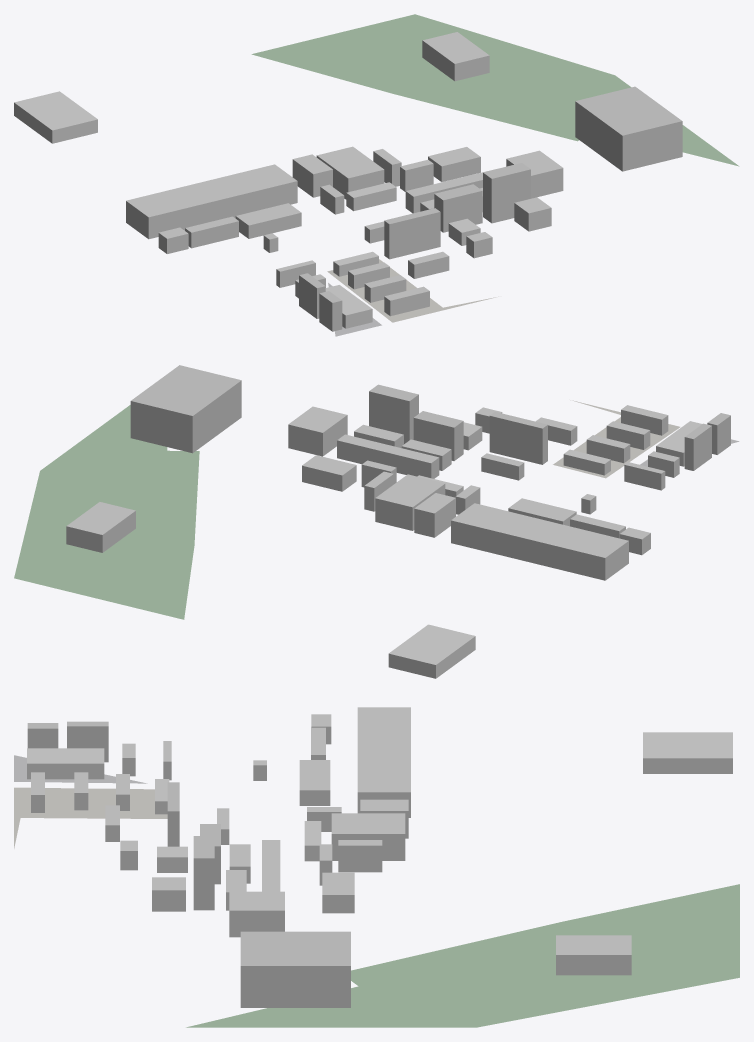
The model's file is 112_78_mid.glb.
3 views of the same model, one above another, from view 1: azimuth 30°, elevation 25°; view 2: azimuth 150°, elevation 25°; view 3: azimuth 270°, elevation 25° (orthographic). The views are drawn at different scales.
Size of the model in its own units: 482 by 40.29 by 500.
